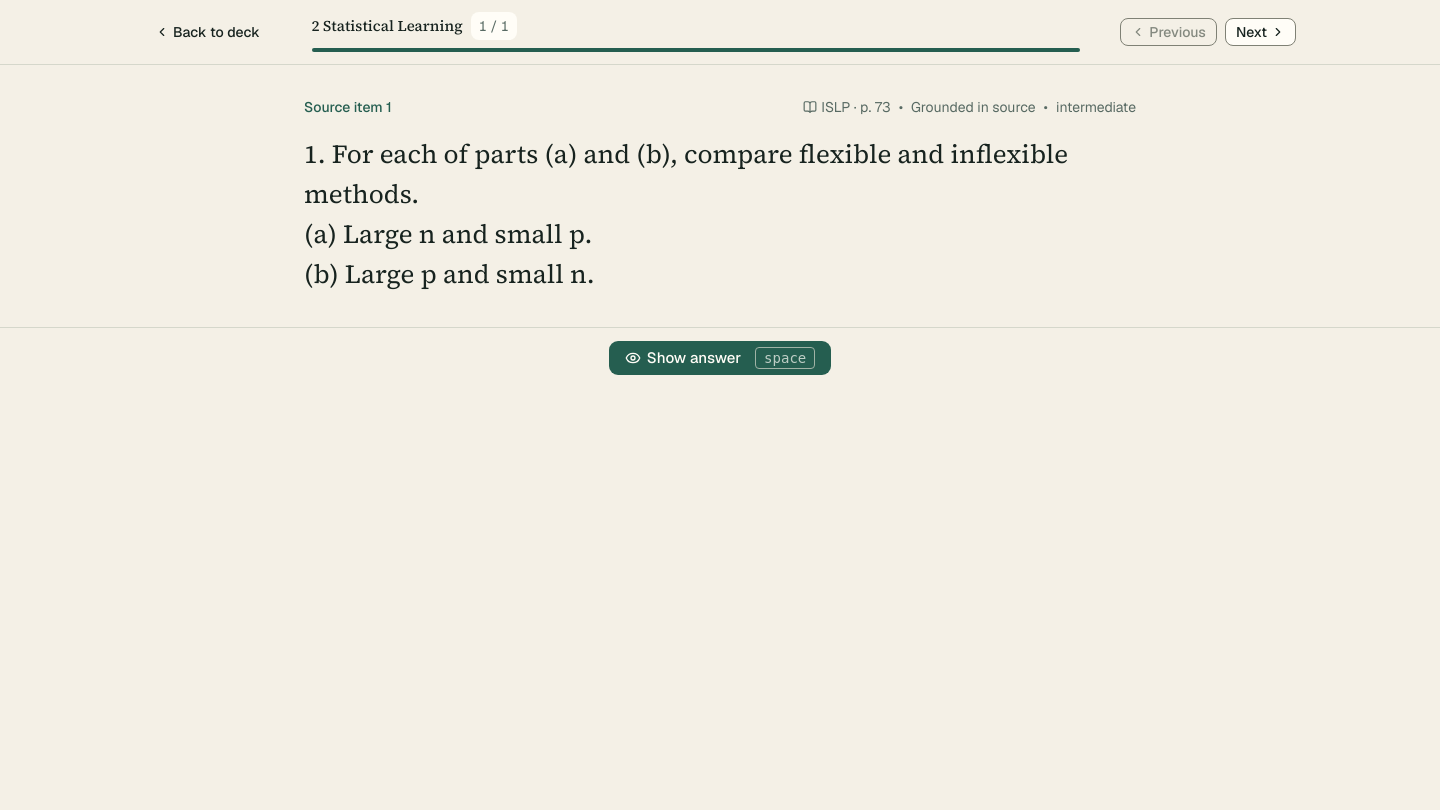
Test: focused deck review › reveals a short answer, structured subparts, and pinned rating choices
Click the button "Show answer space": [720, 358] box [608,340,832,376]
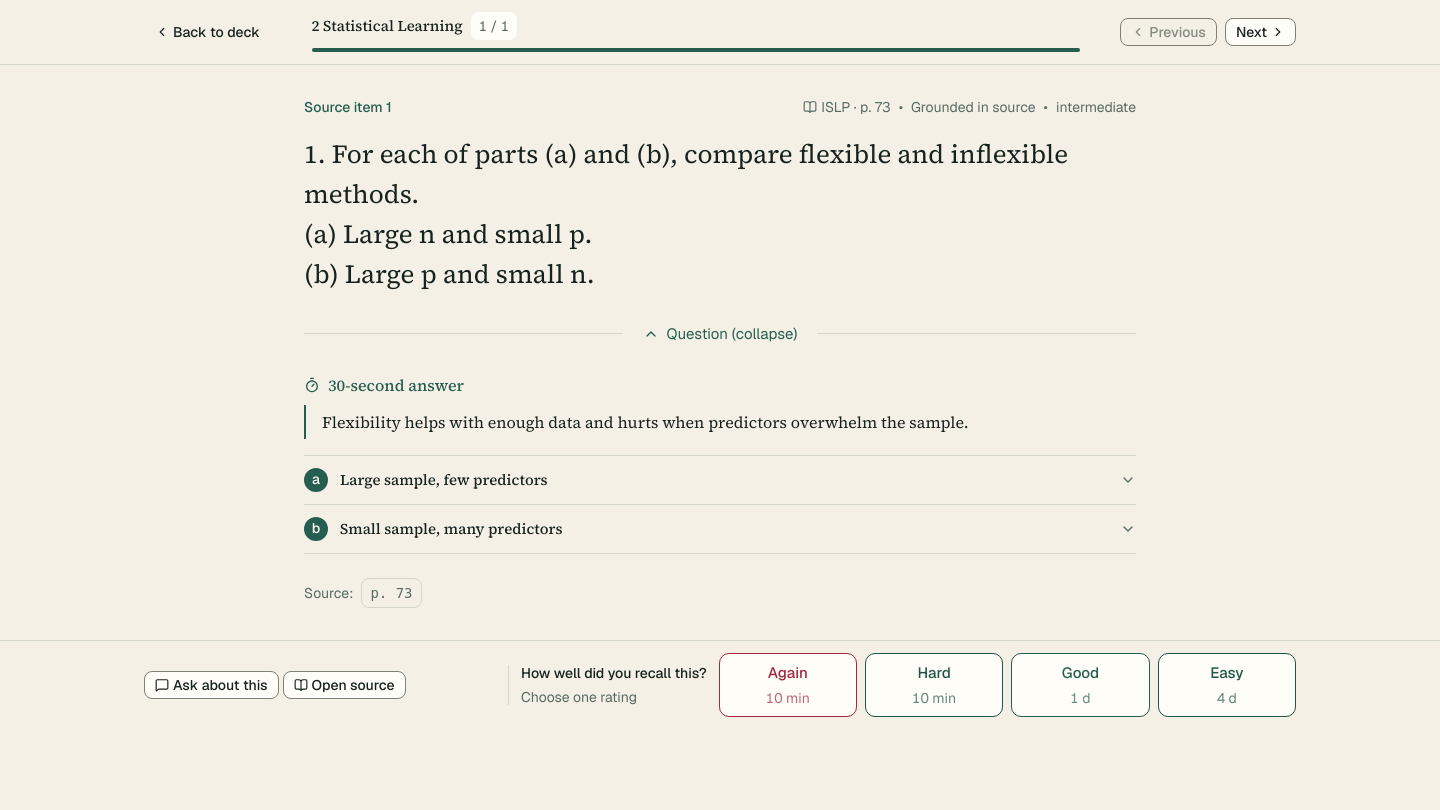
expect the heading "30-second answer" is shown: met, box [304,374,464,396]
expect the text "Large sample, few predictors" is shown: met, box [340,469,548,490]
expect the text "Small sample, many predictors" is shown: met, box [340,518,562,539]
Click the button "Question (collapse)": [720, 334] box [635,319,806,349]
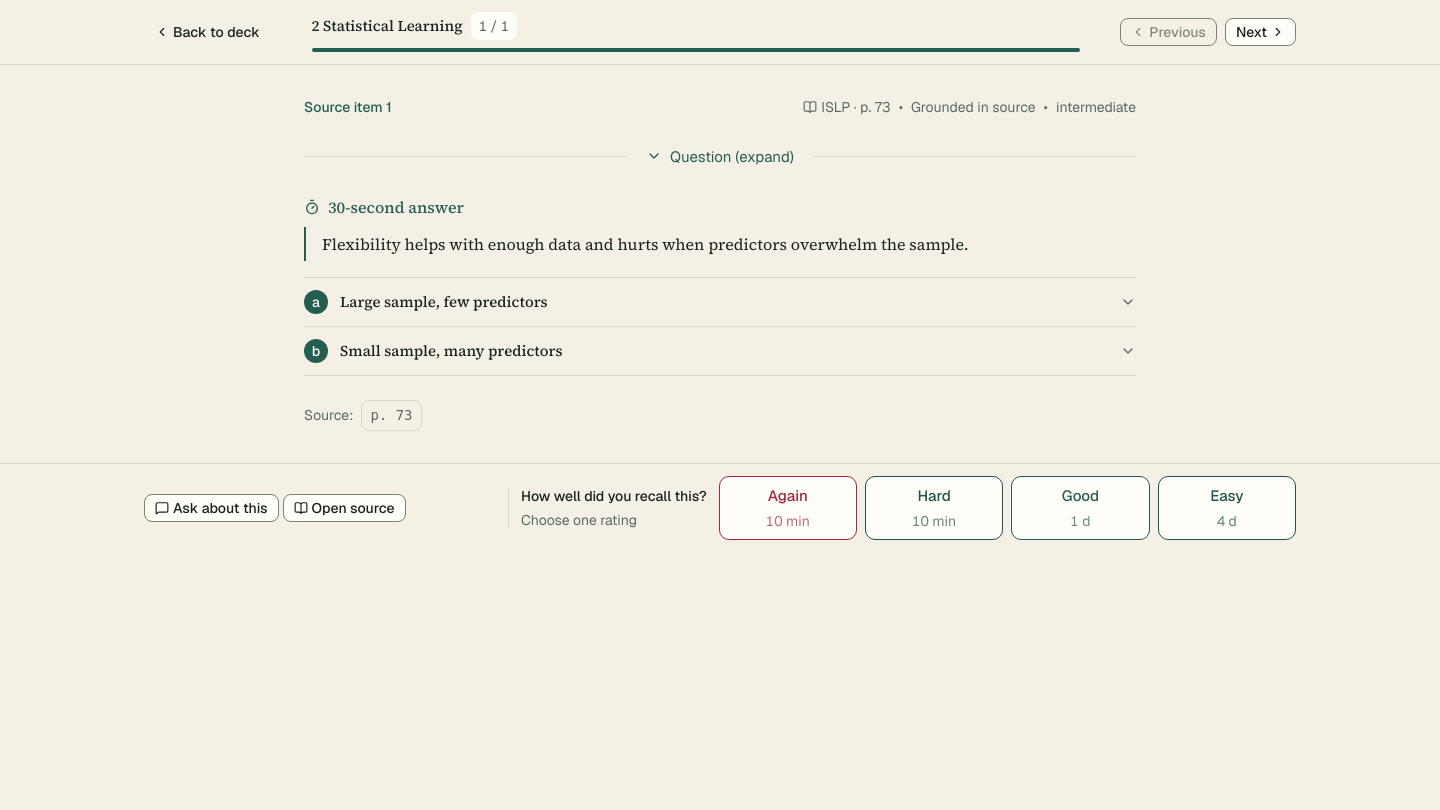
expect the text "For each of parts" is gone: met
expect the button "Question (expand)" is shown: met, box [638,142,802,171]
